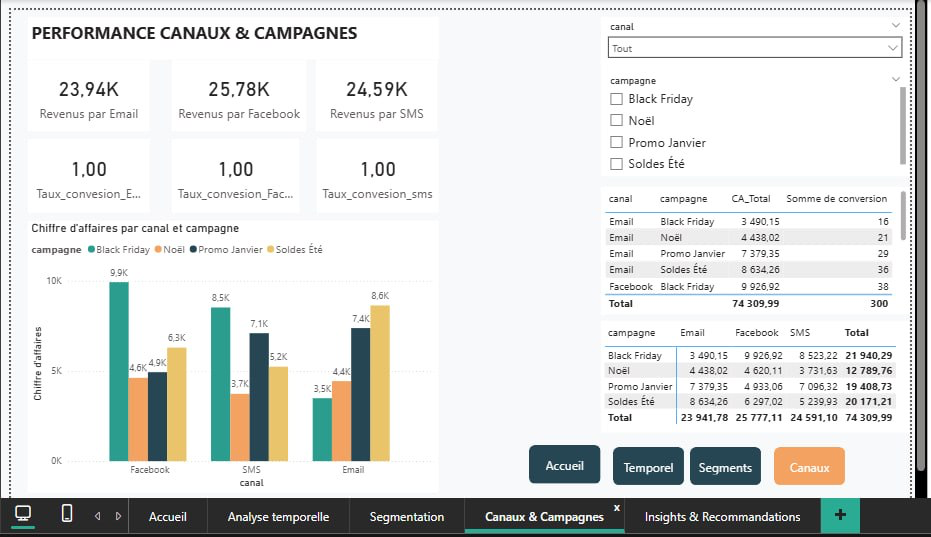

Layout of this report page (visuals, bound fields, positions):
{"tool":"powerbi","page":{"name":"Canaux & Campagnes","canvas":[1280,720],"ordinal":3},"visuals":[{"type":"shape","box":[737.1,619.4,102.1,55.3],"z":0},{"type":"shape","box":[856.7,621.6,101.4,54.4],"z":1},{"type":"shape","box":[966.9,621.6,101.4,54.4],"z":2},{"type":"shape","box":[1085.9,621.6,101.4,54.4],"z":3},{"type":"textbox","box":[23.5,10.3,584.8,60.2],"z":4},{"type":"card","fields":{"Values":["Sheet1.CA_Email"]},"box":[23.5,70.5,173.4,101.4],"z":5},{"type":"card","fields":{"Values":["Sheet1.CA_SMS"]},"box":[434.9,70.5,173.4,101.4],"z":6},{"type":"card","fields":{"Values":["Sheet1.CA_Facebook"]},"box":[229.2,71.2,190.8,101.1],"z":7},{"type":"card","fields":{"Values":["Sheet1.Taux_convesion_Email"]},"box":[24.1,184.3,172.9,104.9],"z":8},{"type":"card","fields":{"Values":["Sheet1.Taux_convesion_Facebook"]},"box":[229.6,184.3,181.4,104.9],"z":9},{"type":"card","fields":{"Values":["Sheet1.Taux_convesion_sms"]},"box":[435.2,184.3,172.9,104.9],"z":10},{"type":"pivotTable","fields":{"Rows":["Sheet1.campagne"],"Columns":["Sheet1.canal"],"Values":["Sheet1.CA_Total"]},"box":[840.6,442.3,439.4,158.8],"z":11},{"type":"clusteredColumnChart","fields":{"Category":["Sheet1.canal"],"Y":["Sheet1.CA_Total"],"Series":["Sheet1.campagne"]},"box":[24.1,300.5,584,385.6],"z":12},{"type":"tableEx","fields":{"Values":["Sheet1.canal","Sheet1.campagne","Sheet1.CA_Total","Sum(Sheet1.conversion)"]},"box":[840,252,440,180.8],"z":13},{"type":"slicer","fields":{"Values":["Sheet1.canal"]},"box":[840.6,9.9,439.4,79.4],"z":14},{"type":"slicer","fields":{"Values":["Sheet1.campagne"]},"box":[840.6,86.5,439.4,150.3],"z":15}]}

Visuals, with their boxes on the page's 1280x720 design canvas (x1, y1, x2, y2). These are canvas units, not pixel positions in the 931x537 screenshot, which may show the page scaled, cropped or inside an application window:
shape: [737,619,839,675]
shape: [857,622,958,676]
shape: [967,622,1068,676]
shape: [1086,622,1187,676]
textbox: [24,10,608,70]
card - Sheet1.CA_Email: [24,70,197,172]
card - Sheet1.CA_SMS: [435,70,608,172]
card - Sheet1.CA_Facebook: [229,71,420,172]
card - Sheet1.Taux_convesion_Email: [24,184,197,289]
card - Sheet1.Taux_convesion_Facebook: [230,184,411,289]
card - Sheet1.Taux_convesion_sms: [435,184,608,289]
pivotTable - Sheet1.campagne x Sheet1.canal: [841,442,1280,601]
clusteredColumnChart - Sheet1.canal x Sheet1.CA_Total: [24,300,608,686]
tableEx - Sheet1.canal x Sheet1.campagne: [840,252,1280,433]
slicer - Sheet1.canal: [841,10,1280,89]
slicer - Sheet1.campagne: [841,86,1280,237]
